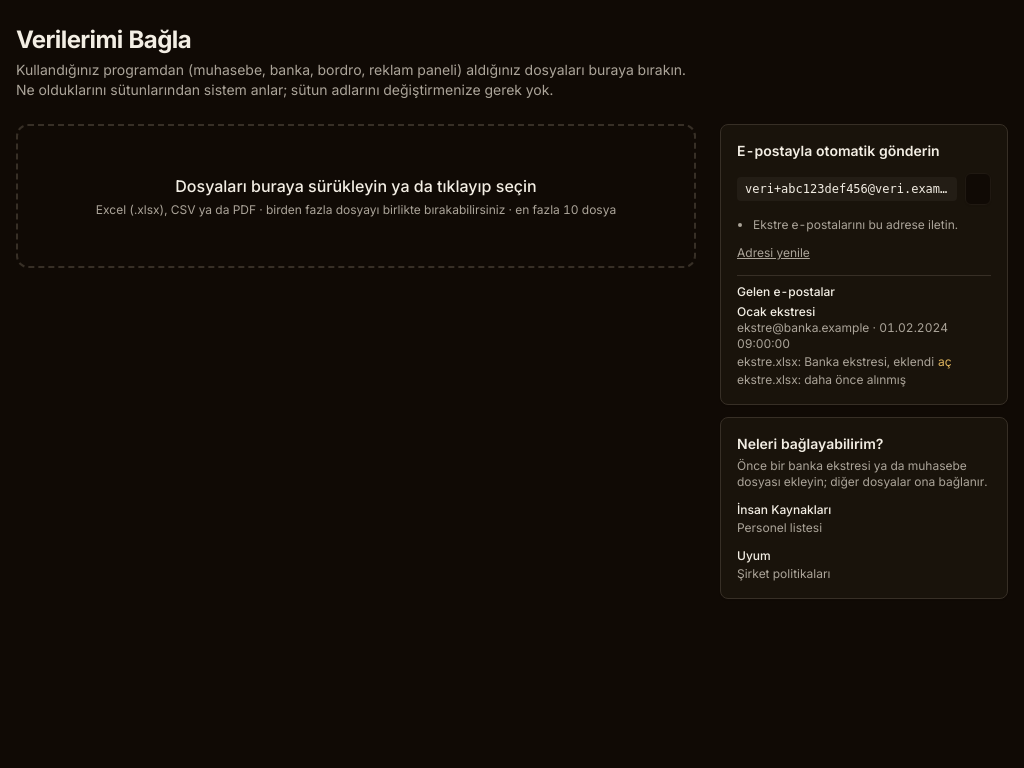
it: Verilerimi Bağla › shows the mail address and what arrived through it
expect the text "veri+abc123def456@veri.example.com" is shown: met, box [737,177,957,201]
expect the text "Ocak ekstresi" is shown: met, box [737,304,815,319]
Renewal asks first: mail to the old address stops being accepted.
Step 1. Click the button "Adresi yenile" → click(773, 253), box [737,245,810,261]
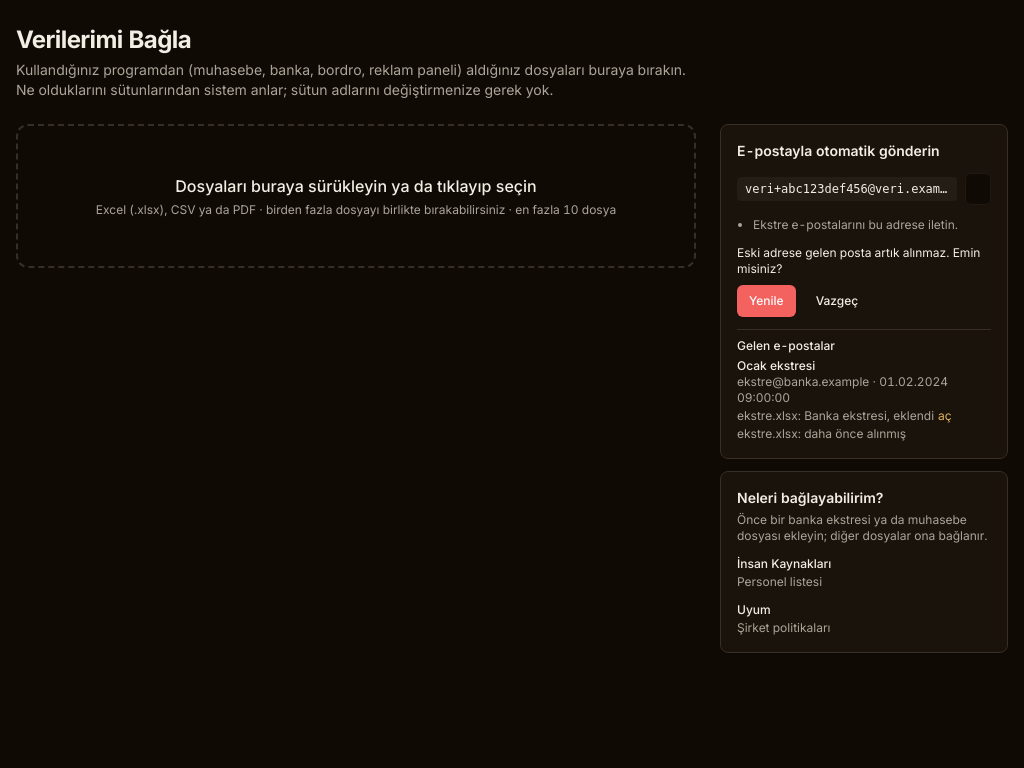
expect the text "Eski adrese gelen posta artık alınmaz. Emin misiniz?" is shown: met, box [737,245,991,277]
